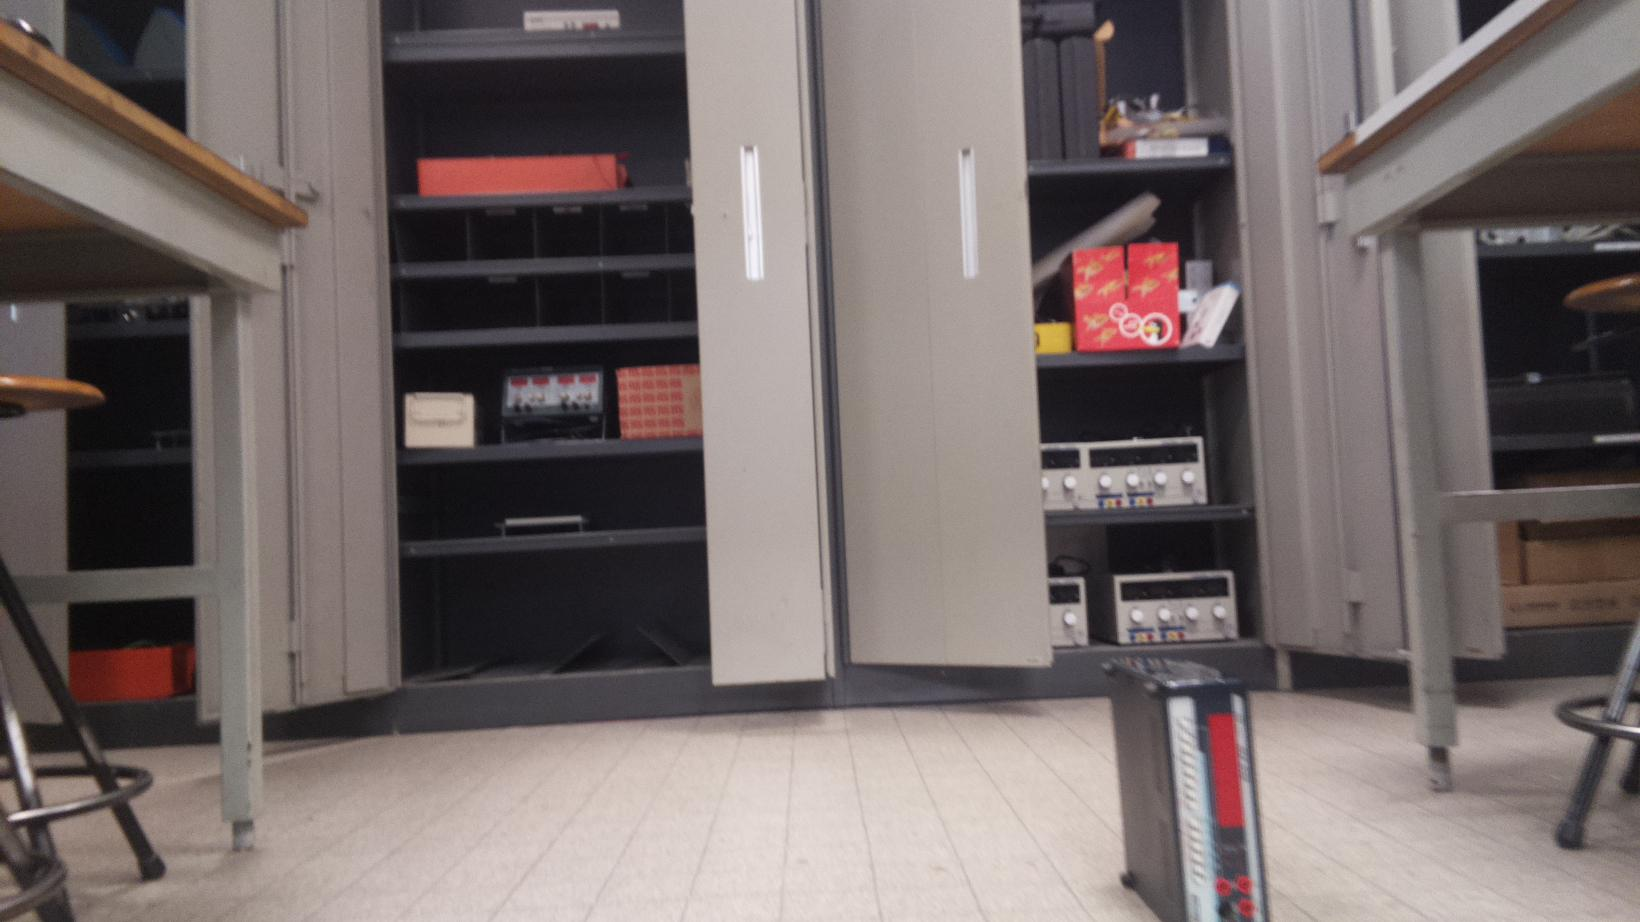medium: (1097, 648, 1271, 922)
